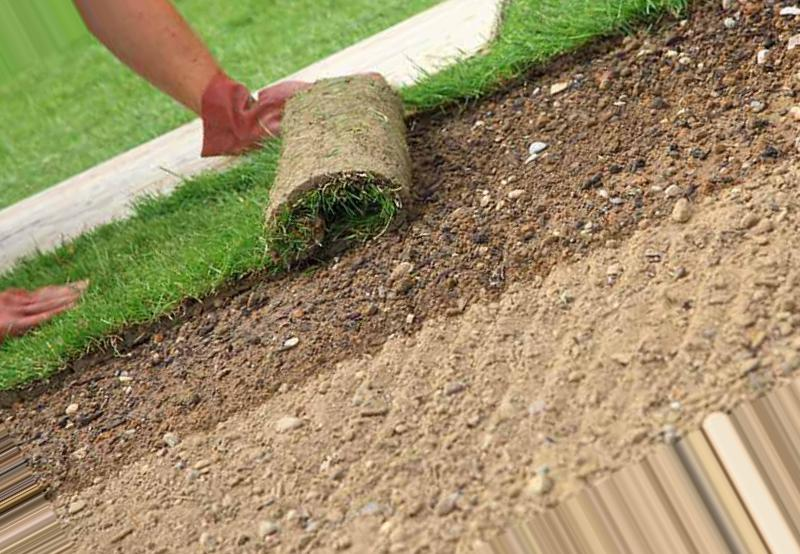patch: (434, 137, 783, 302), (76, 379, 557, 489), (253, 297, 783, 380), (577, 77, 763, 127)
